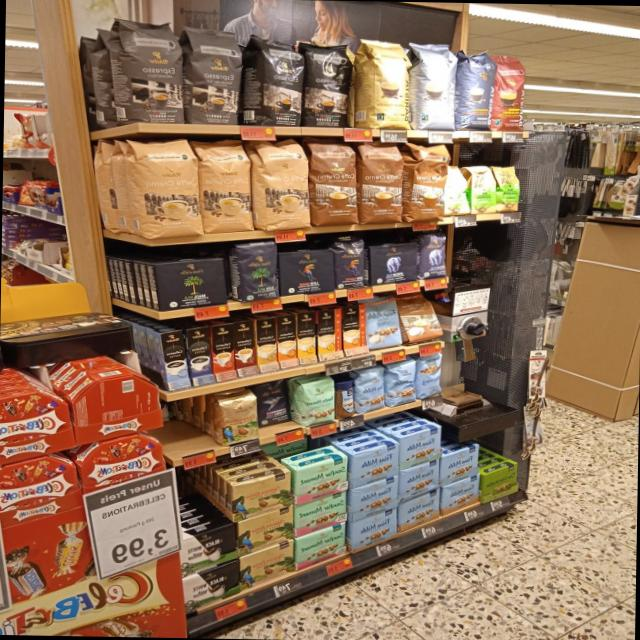AB Bohne: (418, 233, 448, 280)
AB Gemahlen: (369, 241, 418, 286)
Athiopien Bohne: (491, 164, 520, 212)
Athiopien Gemahlen: (464, 162, 499, 215)
BM Bohne: (237, 241, 281, 304)
BM Gemahlen: (154, 257, 228, 313)
BW Gemahlen: (181, 559, 242, 614), (180, 521, 239, 576)
Barista CB: (363, 39, 411, 130)
Barista CC: (413, 39, 457, 132)
Barista Espresso: (460, 49, 496, 133)
Barista Kolumbien: (491, 51, 527, 132)
CC Mild: (131, 137, 207, 242), (196, 137, 256, 236), (257, 138, 310, 234)
CC Vollmundig: (393, 290, 448, 345)
CC Vollmundig 36 Pads: (309, 139, 361, 228), (359, 142, 404, 229), (403, 143, 450, 224)
Colombia BB Bohne: (215, 394, 262, 448)
Colombia BB Gemahlen: (231, 468, 293, 524), (238, 506, 294, 558), (239, 540, 295, 591)
Espresso Aromatisch: (128, 15, 188, 123), (189, 20, 245, 126)
Espresso Kraftig: (301, 41, 352, 129), (258, 35, 305, 128)
FM 36 Pads: (365, 292, 403, 351)
FM Bohne: (387, 357, 418, 409), (355, 365, 386, 415), (417, 352, 443, 400)
FM Gemahlen: (349, 441, 399, 489), (350, 474, 398, 523), (353, 507, 397, 555), (398, 424, 441, 471), (397, 489, 440, 535), (396, 460, 439, 505), (439, 441, 479, 487), (440, 470, 479, 517)
FM Instant: (334, 376, 356, 420)
Herzhatfe Mundig: (482, 461, 519, 506)
LG Bohne: (332, 235, 368, 290)
LG Gemahlen: (278, 248, 334, 298)
SM Bohne: (301, 374, 336, 427)
SM Gemahlen: (293, 454, 347, 507), (296, 520, 348, 571), (293, 490, 347, 539)
Simo CCMild: (317, 307, 343, 362)
Simo CCMild bigpack: (296, 310, 316, 364)
Simo CCVollmundig: (341, 302, 369, 356)
Simo CCVollmundig bigpack: (210, 322, 238, 382), (276, 313, 298, 369)
Simo Decaff: (255, 316, 280, 373)
Simo Es Caramel: (232, 319, 259, 377)
Simo Es Kraft: (186, 324, 215, 388)
Simo Es Vanilla: (160, 328, 192, 391)
